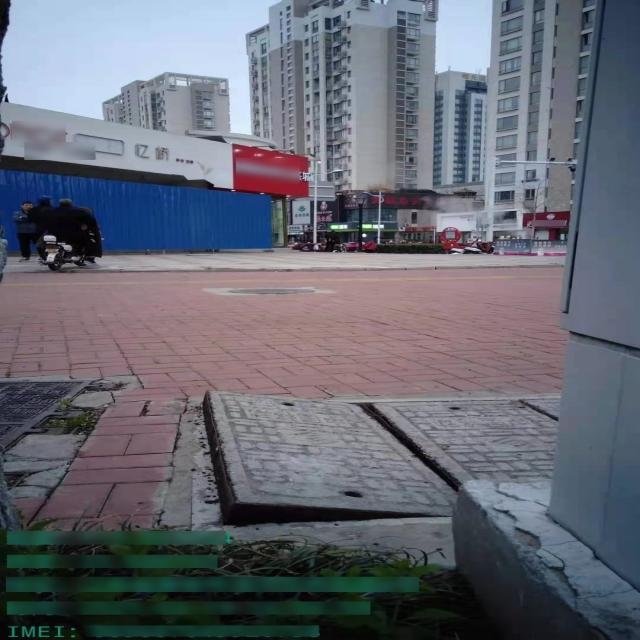Lose: (184, 387, 556, 534)
